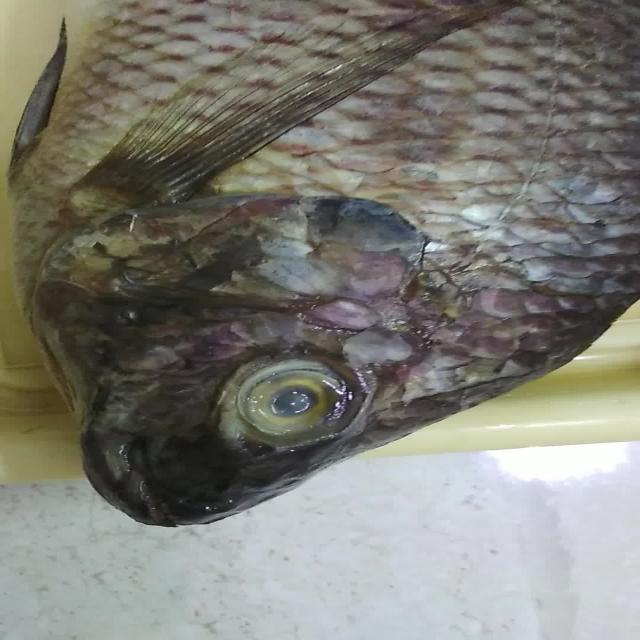Non-Fresh: (54, 7, 600, 336), (218, 348, 380, 452)
